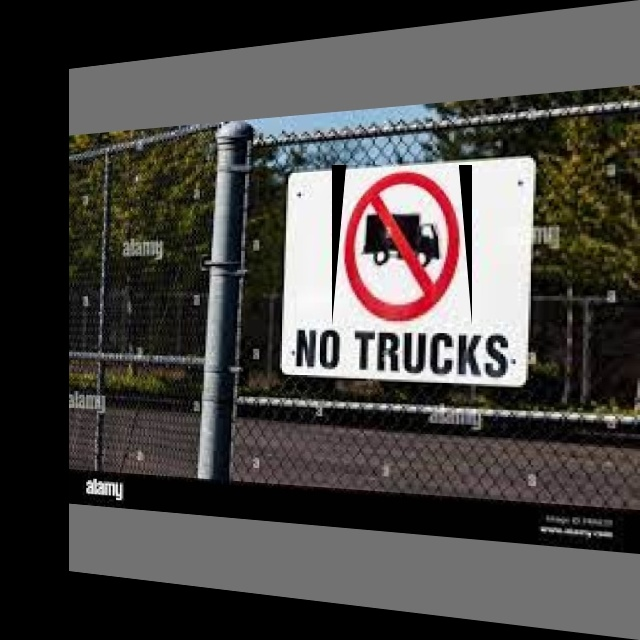Truck_Prohibited: (332, 165, 472, 326)
